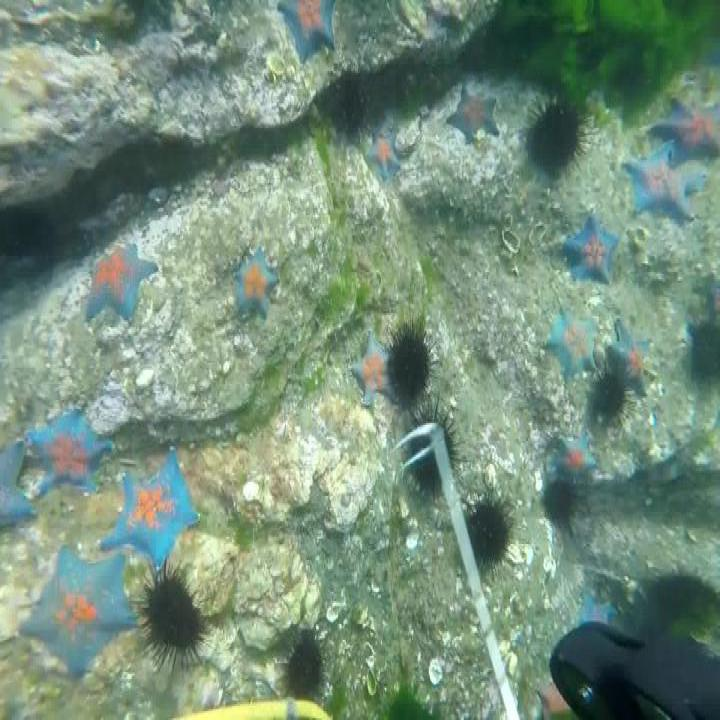echinus: (138, 564, 212, 678), (404, 396, 457, 507), (528, 98, 584, 180), (386, 316, 433, 412), (463, 486, 514, 574), (586, 354, 632, 432), (279, 633, 322, 715), (687, 302, 720, 382), (542, 482, 569, 526)
scallop: (502, 228, 521, 254), (528, 221, 547, 244), (363, 670, 379, 694), (407, 522, 421, 546), (429, 658, 441, 682), (243, 482, 256, 500), (544, 554, 553, 578), (327, 606, 338, 624)
starfish: (19, 542, 134, 674), (101, 446, 199, 571), (31, 407, 103, 500), (80, 238, 157, 322), (619, 148, 703, 218), (657, 86, 720, 156), (274, 0, 334, 66), (564, 210, 617, 284), (350, 332, 396, 413), (0, 437, 38, 530), (546, 311, 598, 373), (232, 256, 279, 320), (558, 425, 593, 507), (444, 87, 499, 139), (612, 320, 650, 393), (369, 124, 397, 172)
